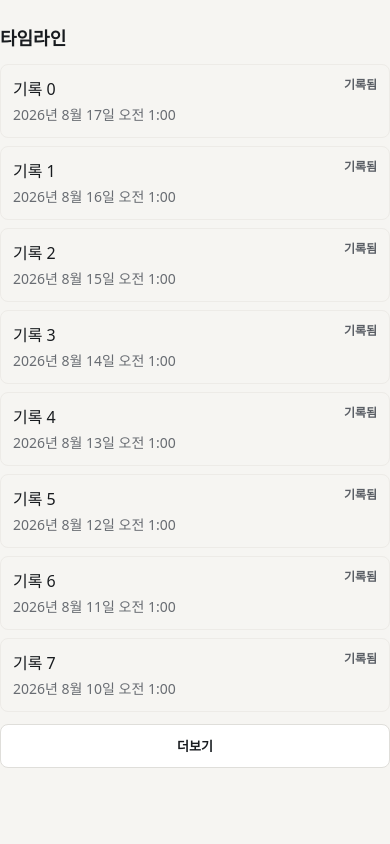
Test case: CustomerTimeline › reveals history in additional groups of eight
The width and height of the screenshot is (390, 844).
Click the button "더보기".
click(195, 746)  # box x1=0 y1=724 x2=389 y2=768
(page scrolled)
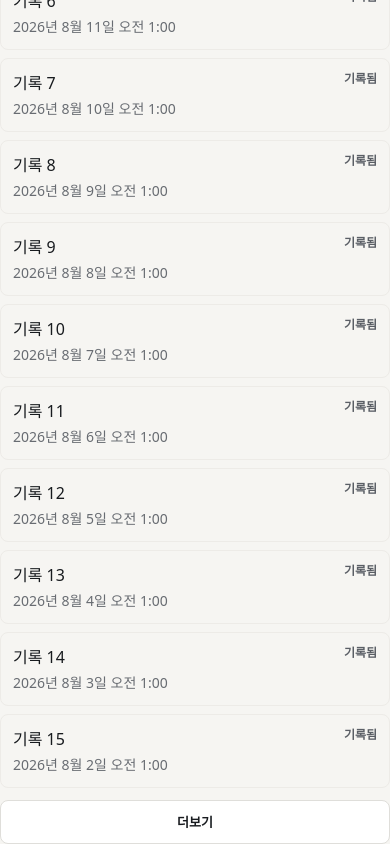
Expected: the number of list items is 16
Click the button "더보기".
click(195, 822)  # box x1=0 y1=800 x2=389 y2=843
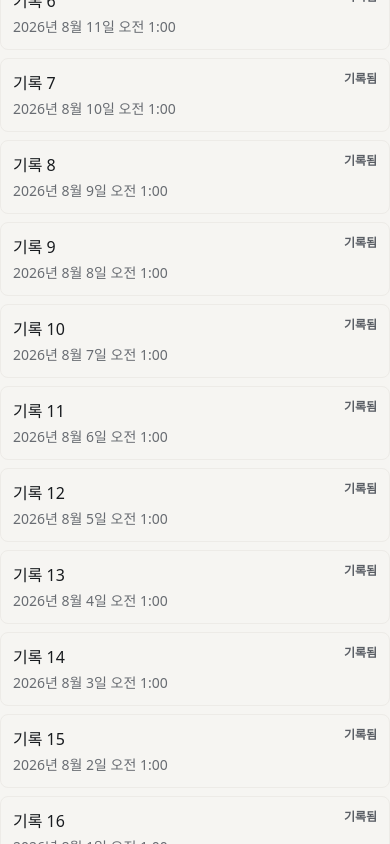
Expected: the button "더보기" is gone
